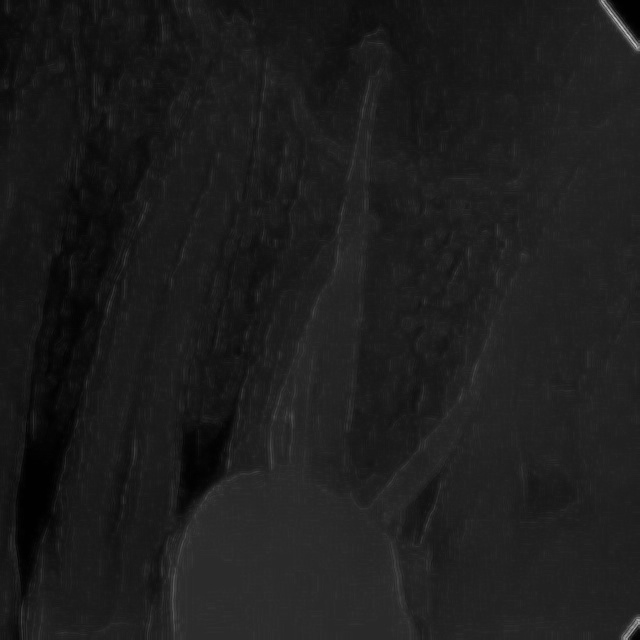Class 0- No endodontic treatment: (168, 18, 556, 639)
